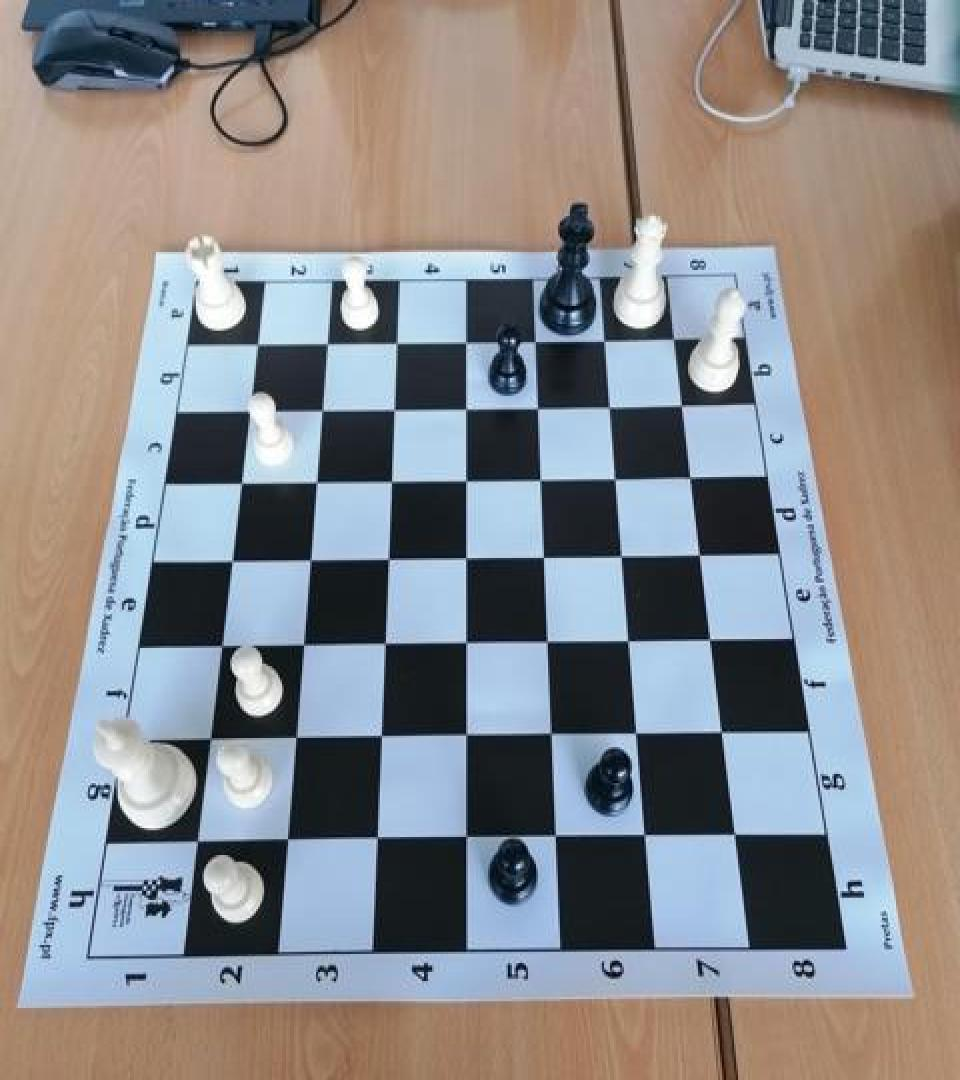xcorner: (531, 624, 563, 661), (449, 625, 481, 662), (180, 822, 212, 859), (658, 320, 690, 356), (588, 322, 620, 358), (518, 323, 550, 359), (448, 323, 480, 359), (379, 324, 411, 360), (309, 325, 341, 361), (239, 325, 271, 361), (666, 387, 698, 423), (594, 388, 626, 424), (521, 389, 553, 425), (304, 392, 336, 428), (231, 392, 263, 428), (675, 460, 707, 496), (599, 460, 631, 496), (524, 461, 556, 497), (448, 462, 480, 498), (373, 462, 405, 498), (298, 464, 330, 500), (222, 464, 254, 500), (685, 538, 717, 574), (606, 539, 638, 575), (527, 539, 559, 575), (449, 540, 481, 576), (370, 541, 402, 577), (292, 542, 324, 578), (213, 542, 245, 578), (695, 623, 727, 659), (613, 623, 645, 659), (367, 626, 399, 662), (285, 626, 317, 662), (203, 628, 235, 664), (706, 716, 738, 752), (620, 716, 652, 752), (534, 718, 566, 754), (449, 718, 481, 754), (363, 719, 395, 755), (277, 720, 309, 756), (192, 720, 224, 756), (719, 817, 751, 853), (629, 818, 661, 854), (539, 819, 571, 855), (449, 820, 481, 856), (359, 820, 391, 856), (269, 821, 301, 857), (448, 391, 480, 426), (376, 391, 408, 426)
